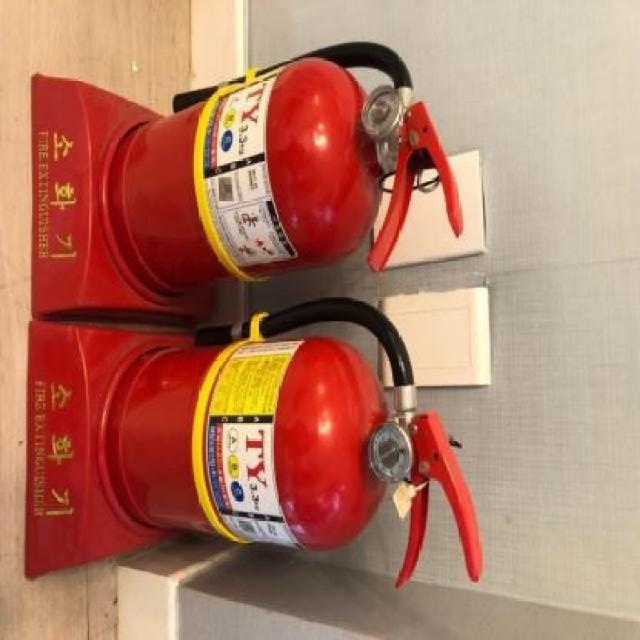fire extinguisher: (105, 298, 483, 590), (108, 41, 464, 296)
